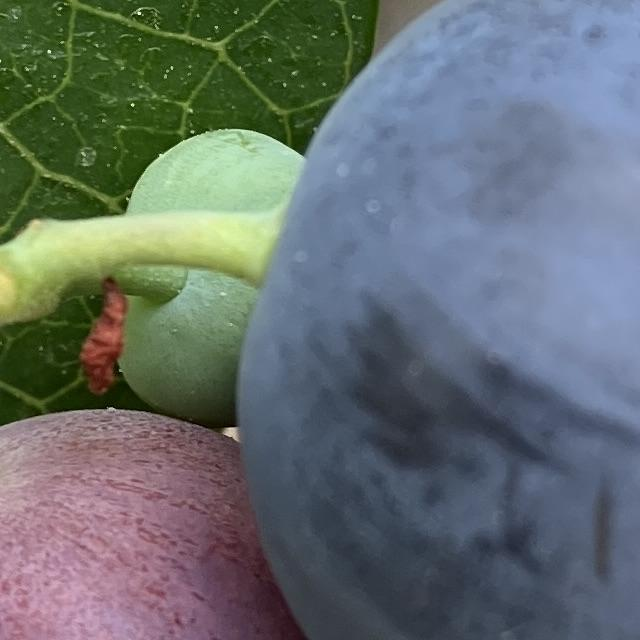Blueberries: (0, 380, 372, 640)
